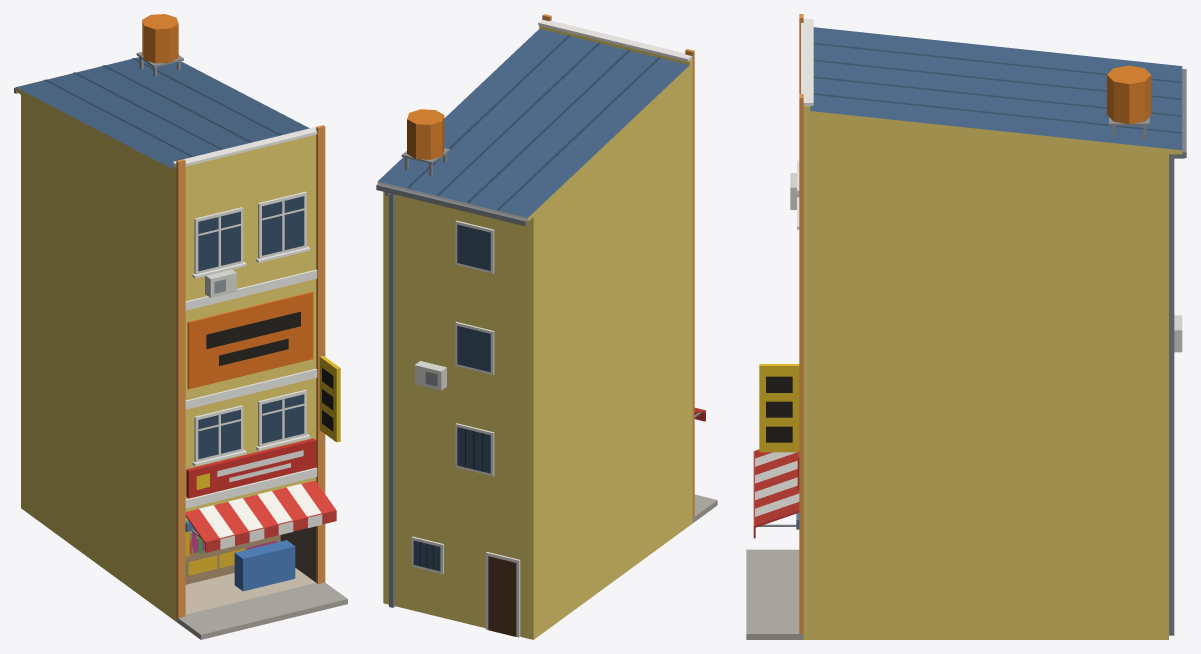
The model's file is ruko_04.glb.
3 renders of one model, left to right at view 1: azimuth 30°, elevation 25°; view 2: azimuth 150°, elevation 25°; view 3: azimuth 270°, elevation 25°, orthographic. The views are drawn at different scales.
Parts seen in each view (by area): view 1: ruko_04; view 2: ruko_04; view 3: ruko_04.
Part boxes in pixels (x1=…): ruko_04: x1=14, y1=14, x2=347, y2=639; ruko_04: x1=376, y1=14, x2=717, y2=639; ruko_04: x1=746, y1=14, x2=1186, y2=639.
Bounding box in the file's own units: 4.5 × 13.73 × 9.95.
